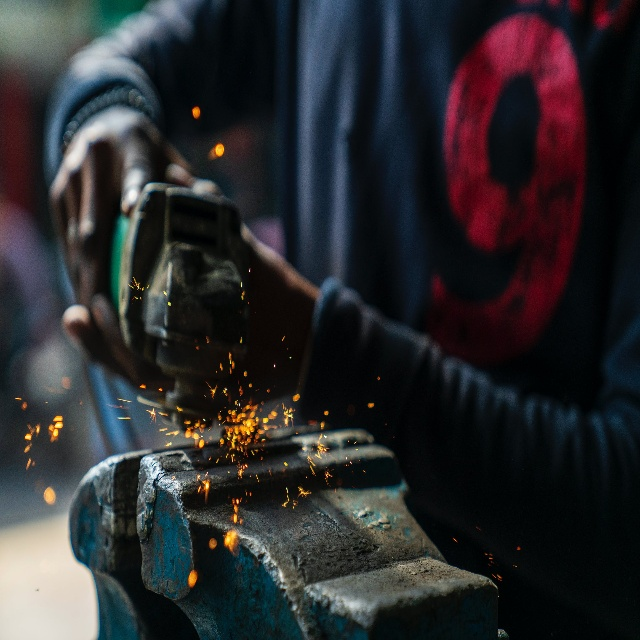Sin_guantes: (60, 173, 300, 397), (48, 122, 198, 308)
